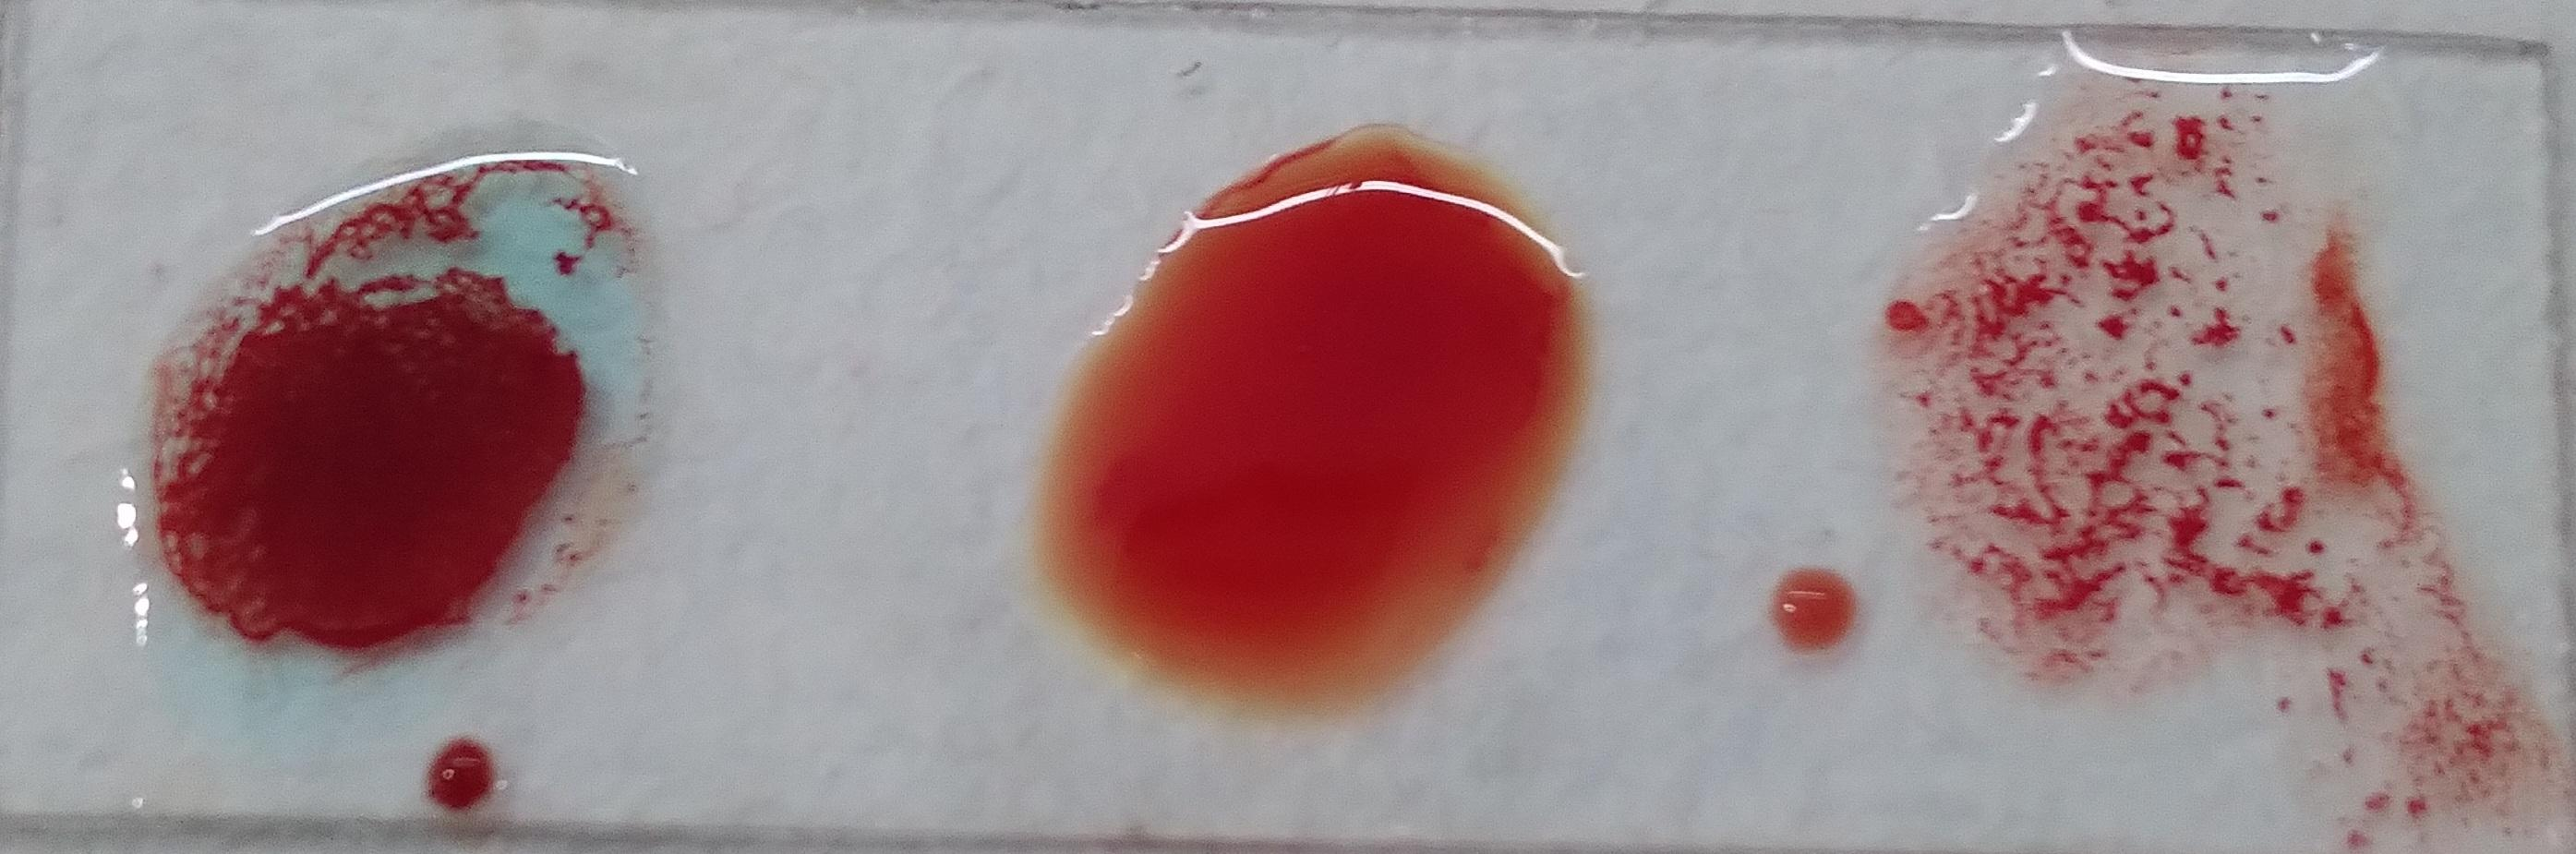A: (1902, 192, 2436, 709)
D: (143, 186, 701, 778)
